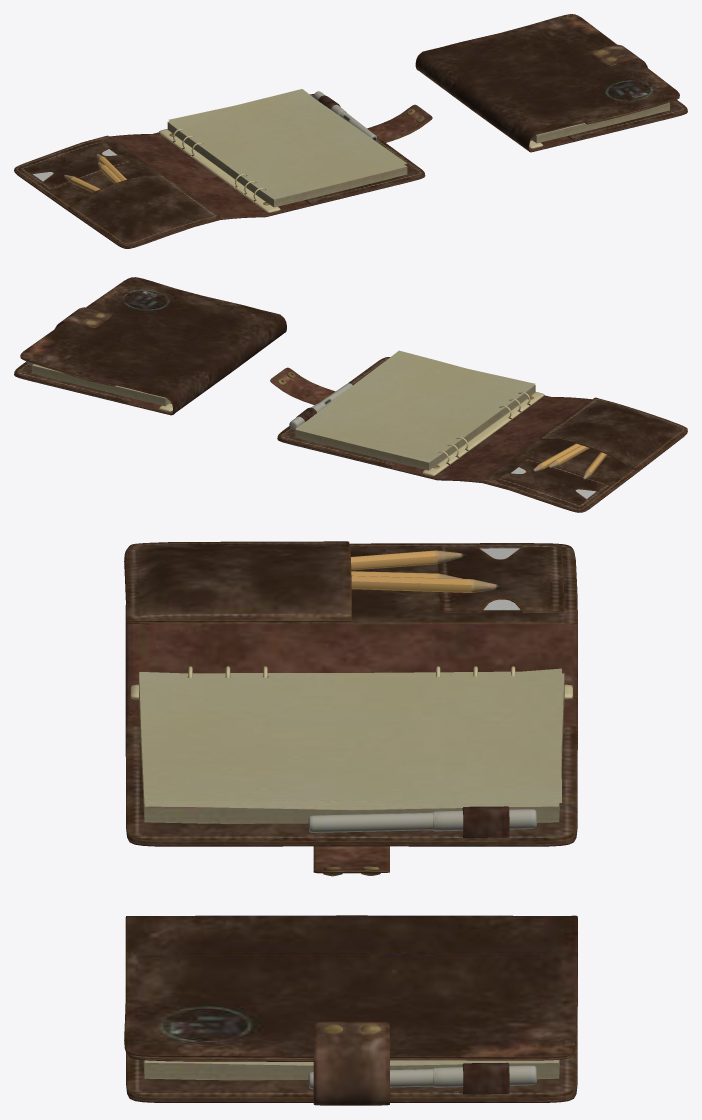
Rendered from binder_notebook.glb.
The picture shows the model from 3 angles, top to bottom: view 1: azimuth 30°, elevation 25°; view 2: azimuth 150°, elevation 25°; view 3: azimuth 270°, elevation 25°; orthographic projection. The views are drawn at different scales.
Parts seen in each view (by area): view 1: binder_notebook; view 2: binder_notebook; view 3: binder_notebook.
Boxes of the visible parts, x1,y1,x2,y2 form: binder_notebook: [14, 14, 687, 248]; binder_notebook: [14, 277, 687, 512]; binder_notebook: [124, 541, 577, 1105].
Size of the model in its own units: 0.584 by 0.0253 by 0.2.
1 material, 1 textured.
